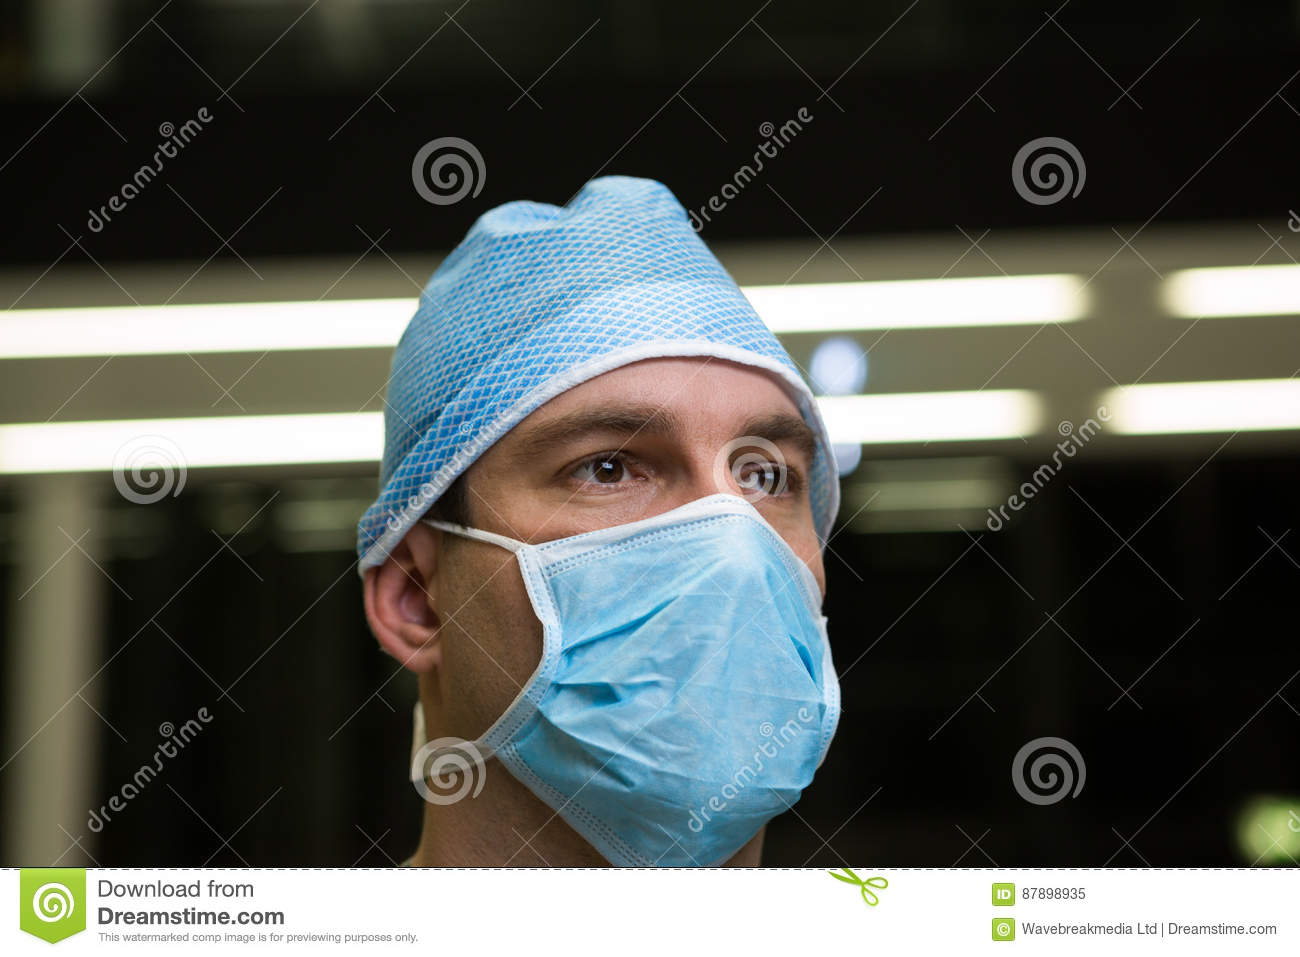mask: (507, 535, 858, 829)
